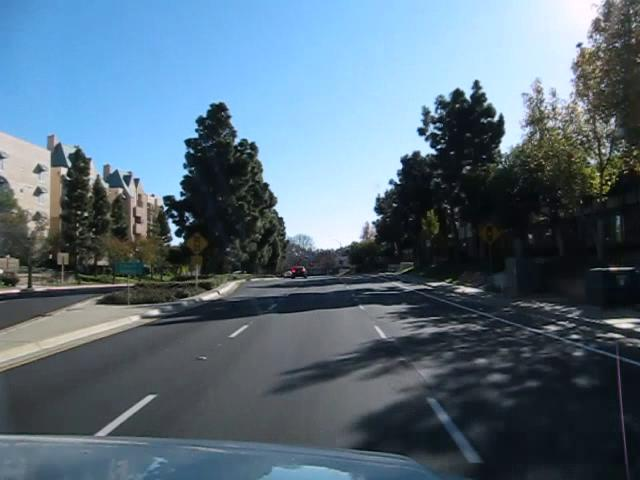signalAhead: (183, 230, 209, 256)
